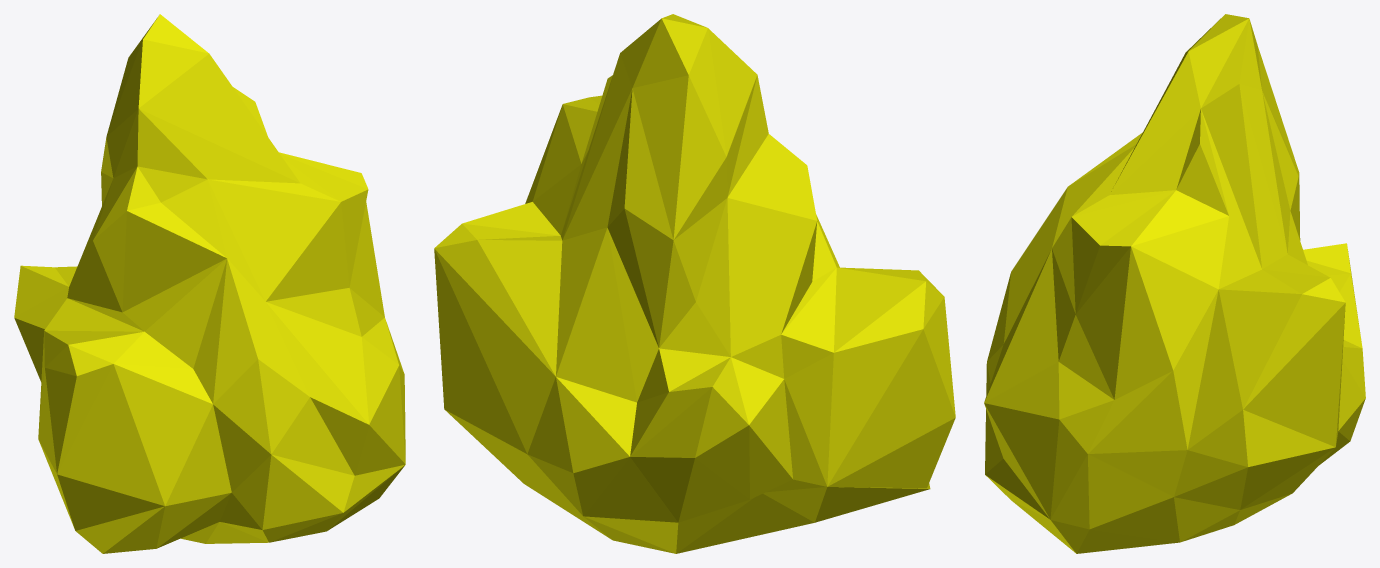
File: SM_Env_Bush_02.glb
3 views of the same model, side by side, from view 1: azimuth 30°, elevation 25°; view 2: azimuth 150°, elevation 25°; view 3: azimuth 270°, elevation 25° (orthographic). The views are drawn at different scales.
Visible parts, largest first — view 1: SM_Env_Bush_02; view 2: SM_Env_Bush_02; view 3: SM_Env_Bush_02.
Boxes of the visible parts, x1,y1,x2,y2 form: SM_Env_Bush_02: [14, 14, 405, 553]; SM_Env_Bush_02: [434, 14, 955, 553]; SM_Env_Bush_02: [984, 14, 1365, 553].
Size of the model in its own units: 1.61 by 2.04 by 1.41.
Materials: 1 (1 with a texture image).
